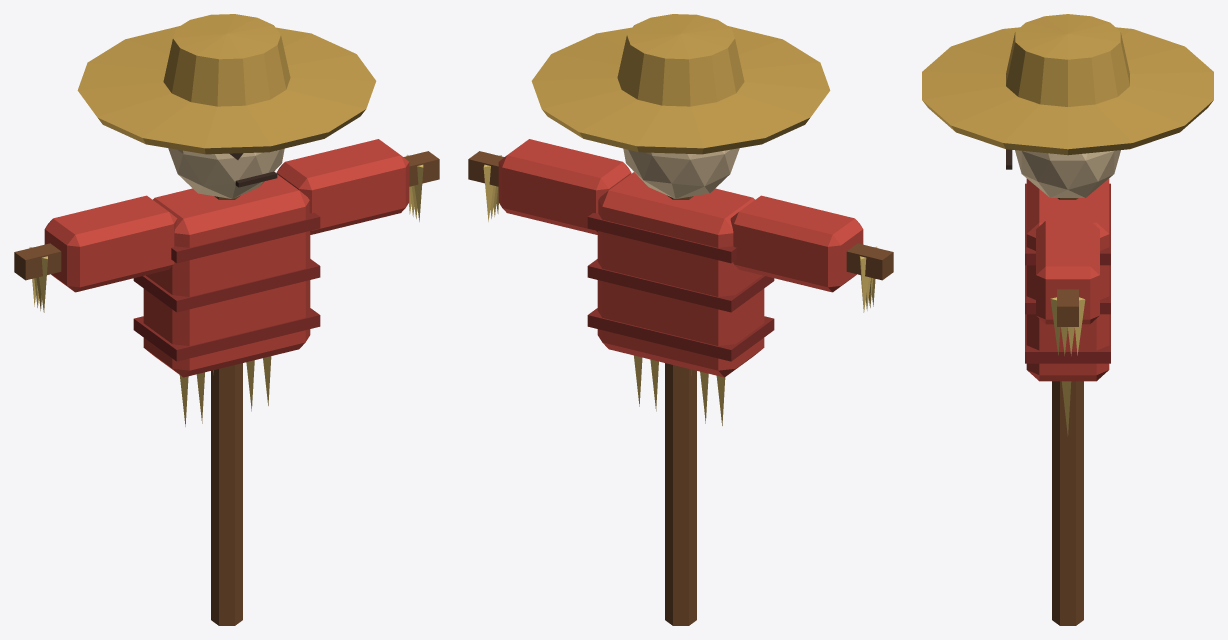
Rendered from vil_scarecrow_v01.glb.
3 views of the same model, side by side, from view 1: azimuth 30°, elevation 25°; view 2: azimuth 150°, elevation 25°; view 3: azimuth 270°, elevation 25° (orthographic).
Parts seen in each view (by area): view 1: scarecrow; view 2: scarecrow; view 3: scarecrow.
Boxes of the visible parts, x1,y1,x2,y2 form: scarecrow: (14, 14, 439, 625); scarecrow: (468, 14, 893, 625); scarecrow: (922, 14, 1213, 625).
Bounding box in the file's own units: 1.5 × 2.03 × 0.9164.
